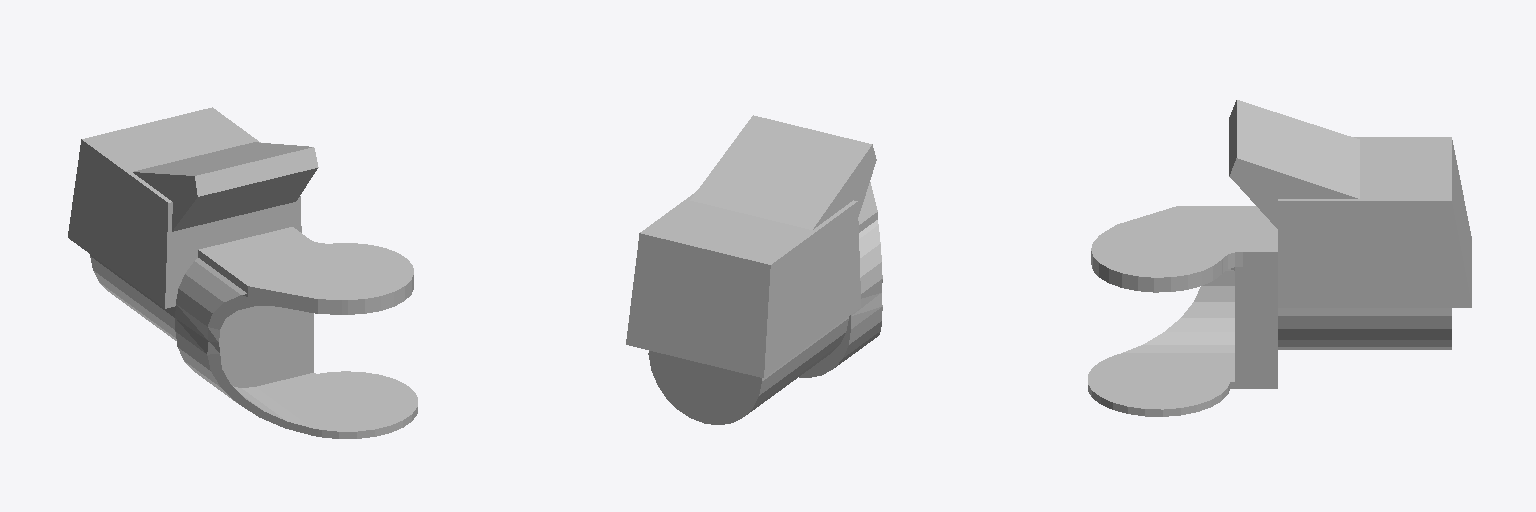
Rendered from LEP.obj.
3 views of the same model, side by side, from view 1: azimuth 30°, elevation 25°; view 2: azimuth 150°, elevation 25°; view 3: azimuth 270°, elevation 25° (orthographic).
Visible parts, largest first — view 1: Shape_IndexedFaceSet.004_Shape_IndexedFaceSet.092, Shape_IndexedFaceSet.001_Shape_IndexedFaceSet.089, Shape_IndexedFaceSet_Shape_IndexedFaceSet.088, Shape_IndexedFaceSet.002_Shape_IndexedFaceSet.090, Shape_IndexedFaceSet.003_Shape_IndexedFaceSet.091; view 2: Shape_IndexedFaceSet.001_Shape_IndexedFaceSet.089, Shape_IndexedFaceSet.002_Shape_IndexedFaceSet.090, Shape_IndexedFaceSet.003_Shape_IndexedFaceSet.091, Shape_IndexedFaceSet.004_Shape_IndexedFaceSet.092, Shape_IndexedFaceSet_Shape_IndexedFaceSet.088; view 3: Shape_IndexedFaceSet.001_Shape_IndexedFaceSet.089, Shape_IndexedFaceSet.004_Shape_IndexedFaceSet.092, Shape_IndexedFaceSet_Shape_IndexedFaceSet.088, Shape_IndexedFaceSet.002_Shape_IndexedFaceSet.090, Shape_IndexedFaceSet.003_Shape_IndexedFaceSet.091.
Part boxes in pixels (x1,y1,x2,y2): Shape_IndexedFaceSet.004_Shape_IndexedFaceSet.092: (175,258,417,438); Shape_IndexedFaceSet.001_Shape_IndexedFaceSet.089: (68,107,301,308); Shape_IndexedFaceSet_Shape_IndexedFaceSet.088: (198,227,413,314); Shape_IndexedFaceSet.002_Shape_IndexedFaceSet.090: (133,142,318,231); Shape_IndexedFaceSet.003_Shape_IndexedFaceSet.091: (90,254,176,340); Shape_IndexedFaceSet.001_Shape_IndexedFaceSet.089: (626,191,860,377); Shape_IndexedFaceSet.002_Shape_IndexedFaceSet.090: (690,115,876,229); Shape_IndexedFaceSet.003_Shape_IndexedFaceSet.091: (648,317,848,424); Shape_IndexedFaceSet.004_Shape_IndexedFaceSet.092: (799,192,882,377); Shape_IndexedFaceSet_Shape_IndexedFaceSet.088: (858,182,877,232); Shape_IndexedFaceSet.001_Shape_IndexedFaceSet.089: (1278,137,1471,307); Shape_IndexedFaceSet.004_Shape_IndexedFaceSet.092: (1088,218,1277,416); Shape_IndexedFaceSet_Shape_IndexedFaceSet.088: (1091,206,1277,292); Shape_IndexedFaceSet.002_Shape_IndexedFaceSet.090: (1229,100,1359,228); Shape_IndexedFaceSet.003_Shape_IndexedFaceSet.091: (1278,308,1451,349).
Bounding box in the file's own units: 0.1038 × 0.1248 × 0.1877.